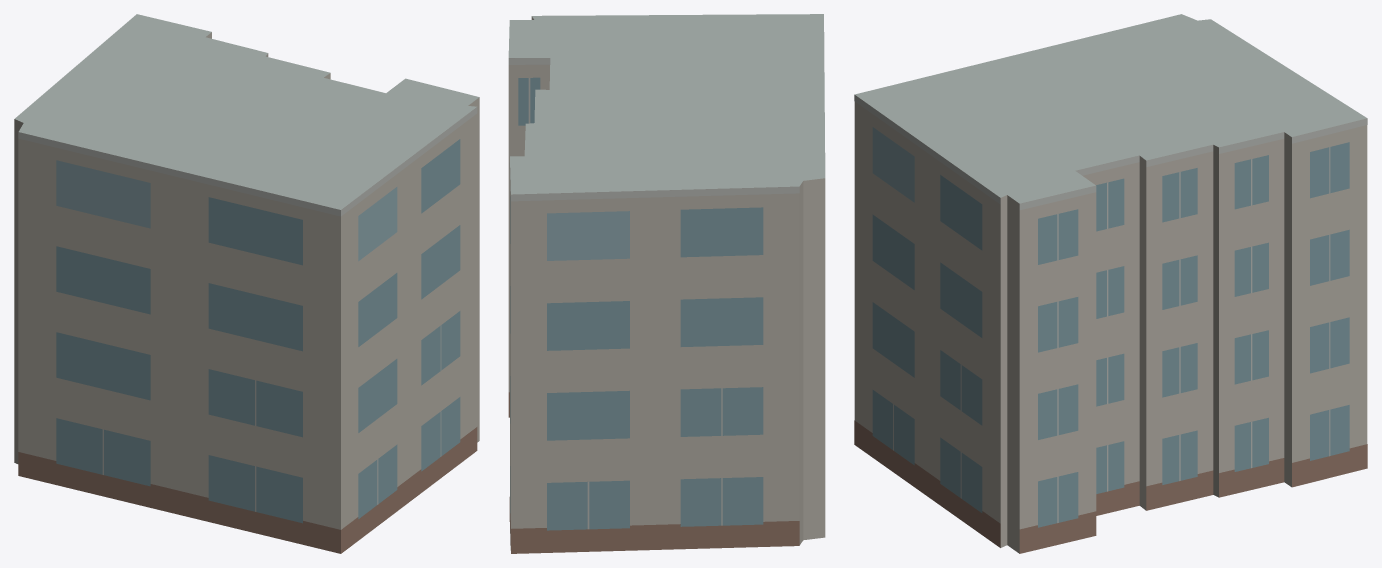
Rendered from survey-upis-32994568.glb.
3 renders of one model, left to right at view 1: azimuth 30°, elevation 25°; view 2: azimuth 150°, elevation 25°; view 3: azimuth 270°, elevation 25°, orthographic. The views are drawn at different scales.
Visible parts, largest first — view 1: survey-upis-32994568.tmp; view 2: survey-upis-32994568.tmp; view 3: survey-upis-32994568.tmp.
Boxes of the visible parts, left/top/right/bottom form: survey-upis-32994568.tmp: left=14, top=14, right=479, bottom=553; survey-upis-32994568.tmp: left=508, top=14, right=825, bottom=553; survey-upis-32994568.tmp: left=854, top=14, right=1367, bottom=553.
Bounding box in the file's own units: 14.88 × 12.8 × 17.
